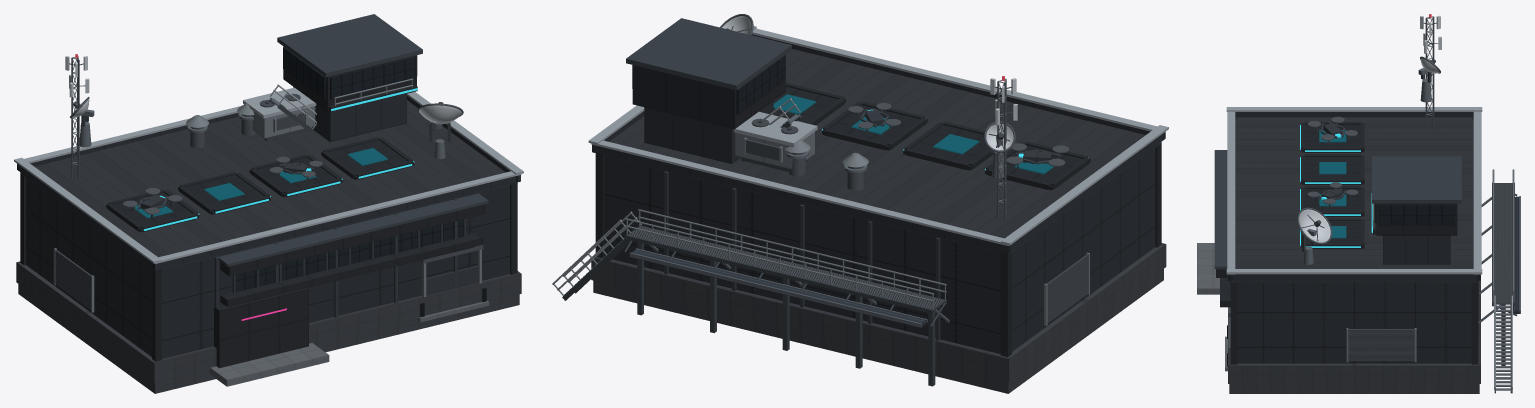
File: trg-2-built.glb
3 views of the same model, side by side, from view 1: azimuth 30°, elevation 25°; view 2: azimuth 150°, elevation 25°; view 3: azimuth 270°, elevation 25° (orthographic). The views are drawn at different scales.
Size of the model in its own units: 30.17 by 18.78 by 23.94.
40 materials, 26 textured.
